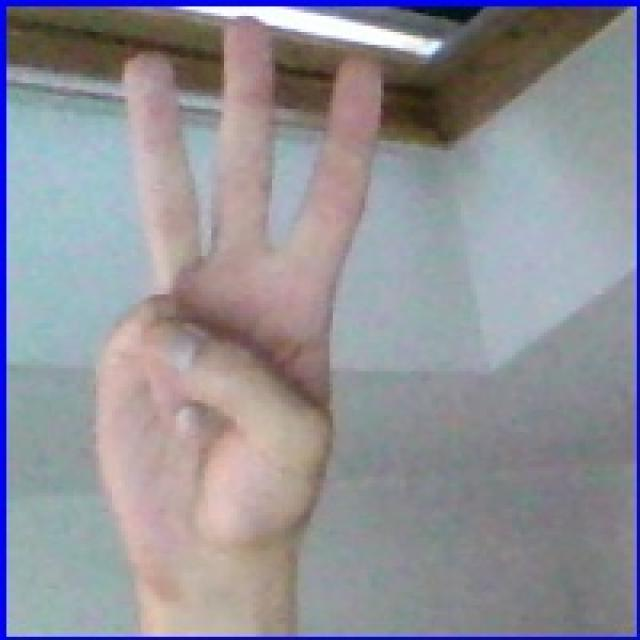Letra-W: (75, 10, 408, 595)
